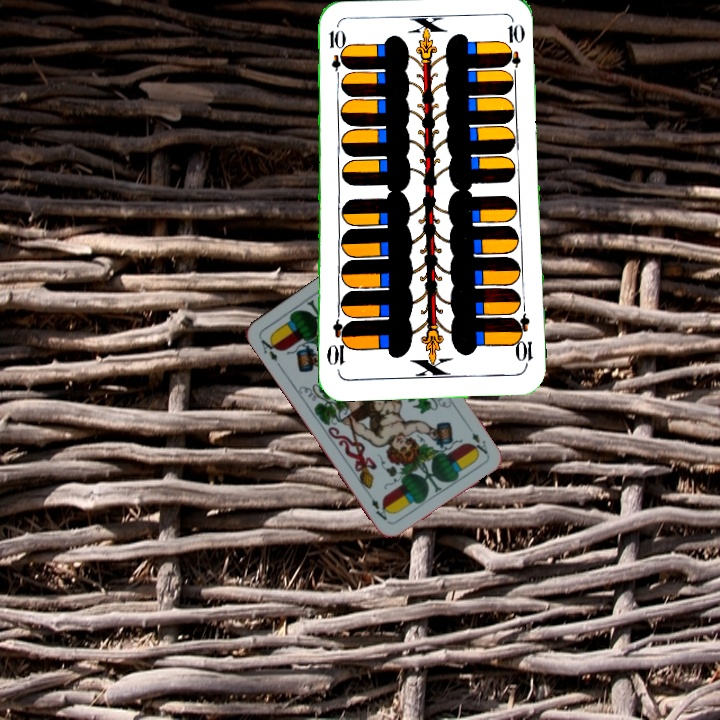E10: (510, 311, 536, 370), (325, 26, 344, 85)
EA: (256, 333, 282, 364), (468, 428, 490, 457)
